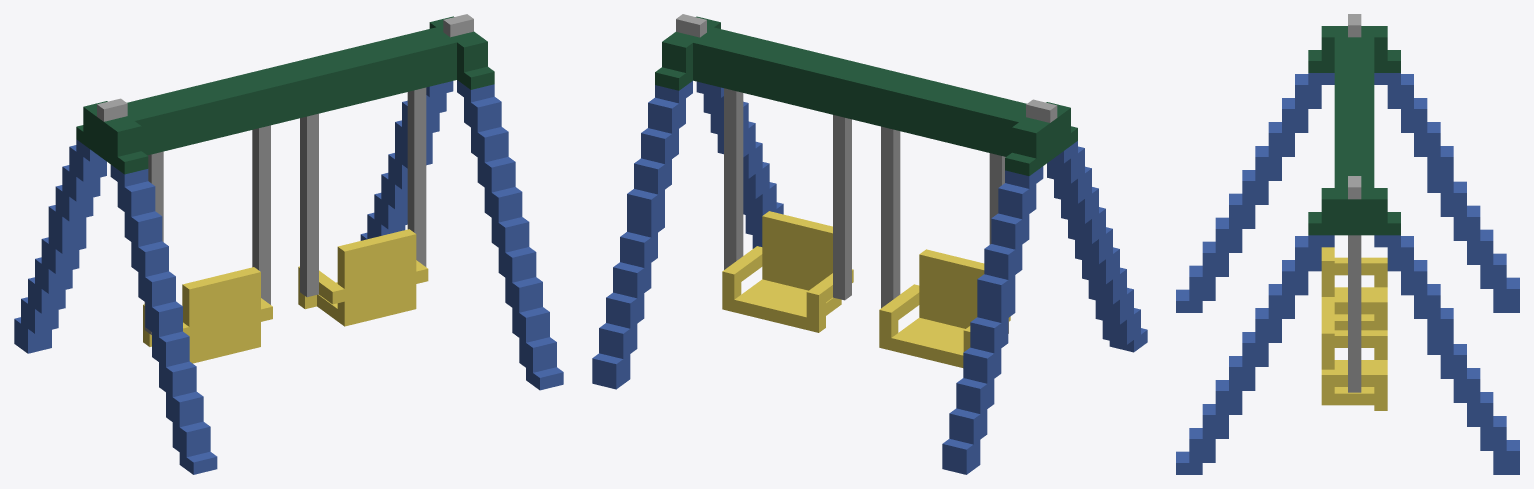
The model's file is balanço.obj.
3 views of the same model, side by side, from view 1: azimuth 30°, elevation 25°; view 2: azimuth 150°, elevation 25°; view 3: azimuth 270°, elevation 25° (orthographic). The views are drawn at different scales.
Size of the model in its own units: 3.1 by 2.4 by 2.6.
1 material, 1 textured.
